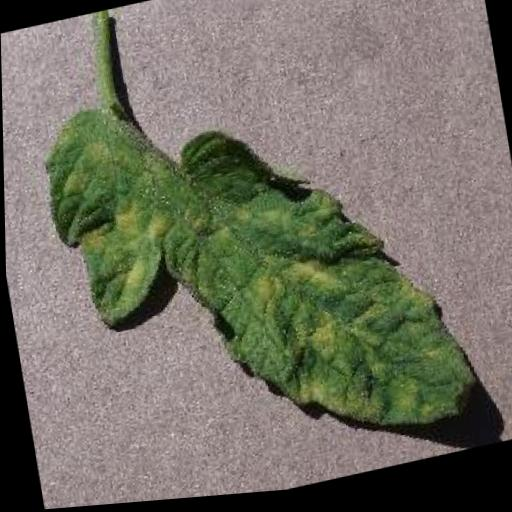Leaf Mold: (35, 37, 481, 505)
